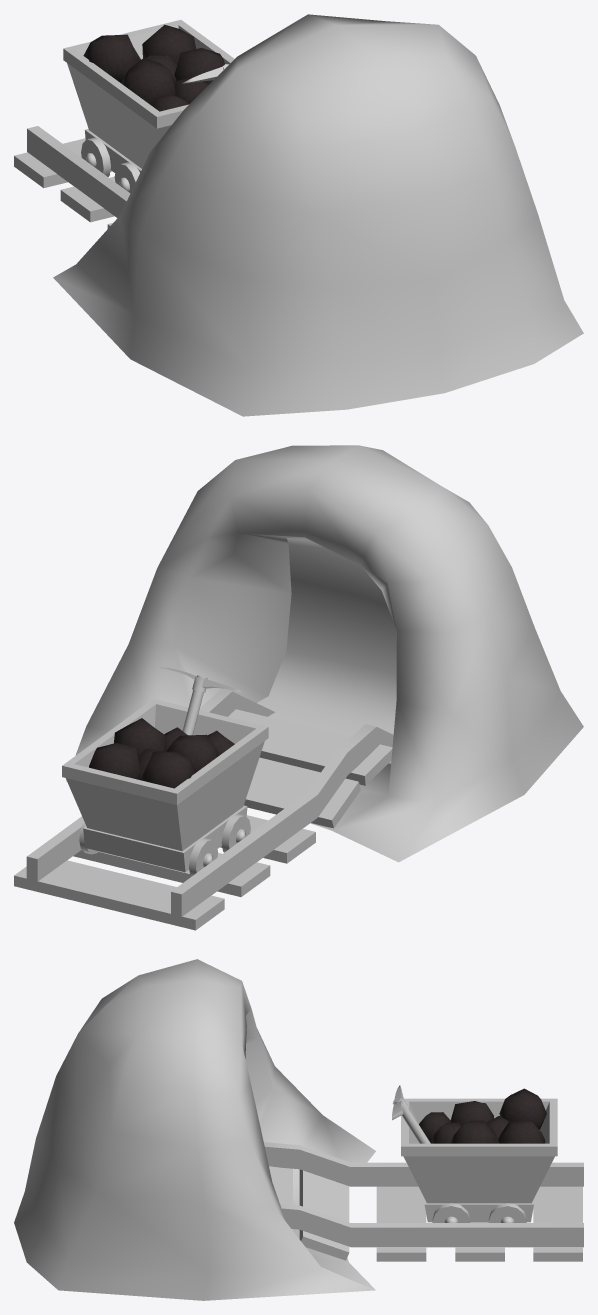
Rendered from Mine.FBX.
3 renders of one model, top to bottom at view 1: azimuth 30°, elevation 25°; view 2: azimuth 150°, elevation 25°; view 3: azimuth 270°, elevation 25°, orthographic. The views are drawn at different scales.
Visible parts, largest first — view 1: Box002, Box001, Box004, Box012, Box015, Box014, Box016, Box018; view 2: Box002, Box004, Box001, Box012, Box014, Box016, Box015, Cylinder005; view 3: Box002, Box004, Box001, Box012, Box014, Box016, Box015, Cylinder005, Box017.
Boxes of the visible parts, bbox=[...] form: Box002: bbox=[53, 14, 583, 416]; Box001: bbox=[63, 20, 234, 193]; Box004: bbox=[14, 126, 130, 228]; Box012: bbox=[83, 34, 140, 83]; Box015: bbox=[121, 58, 175, 105]; Box014: bbox=[142, 24, 195, 64]; Box016: bbox=[174, 48, 224, 84]; Box018: bbox=[174, 77, 208, 104]; Box002: bbox=[66, 445, 583, 862]; Box004: bbox=[14, 689, 393, 930]; Box001: bbox=[62, 699, 268, 876]; Box012: bbox=[141, 751, 197, 788]; Box014: bbox=[89, 743, 140, 779]; Box016: bbox=[114, 718, 165, 757]; Box015: bbox=[166, 734, 219, 771]; Cylinder005: bbox=[159, 667, 244, 735]; Box002: bbox=[14, 959, 375, 1300]; Box004: bbox=[264, 1142, 583, 1261]; Box001: bbox=[401, 1098, 557, 1222]; Box012: bbox=[499, 1088, 546, 1129]; Box014: bbox=[498, 1119, 545, 1143]; Box016: bbox=[450, 1120, 497, 1143]; Box015: bbox=[450, 1101, 493, 1125]; Cylinder005: bbox=[392, 1085, 430, 1143]; Box017: bbox=[419, 1112, 450, 1143].
Bounding box in the file's own units: 33.94 × 25.52 × 51.01.
